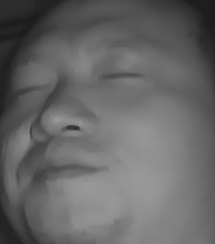blink: (8, 79, 45, 102), (101, 68, 142, 87)
mouth: (28, 150, 100, 184)
